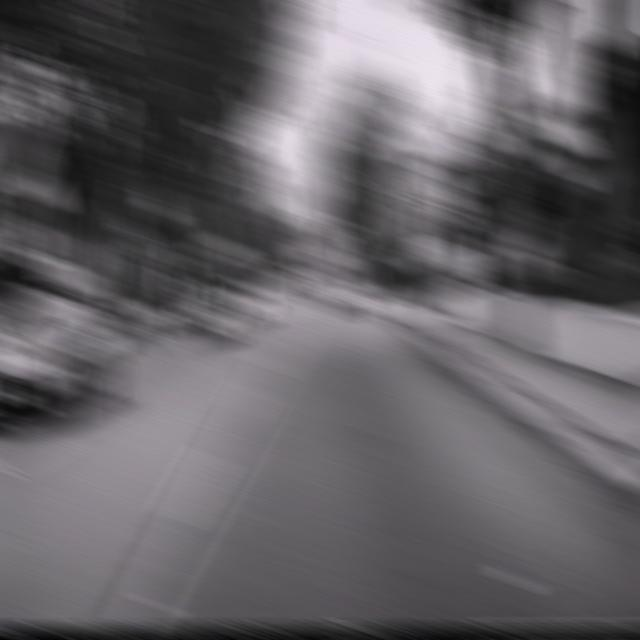speedLimit25: (412, 174, 446, 223)
